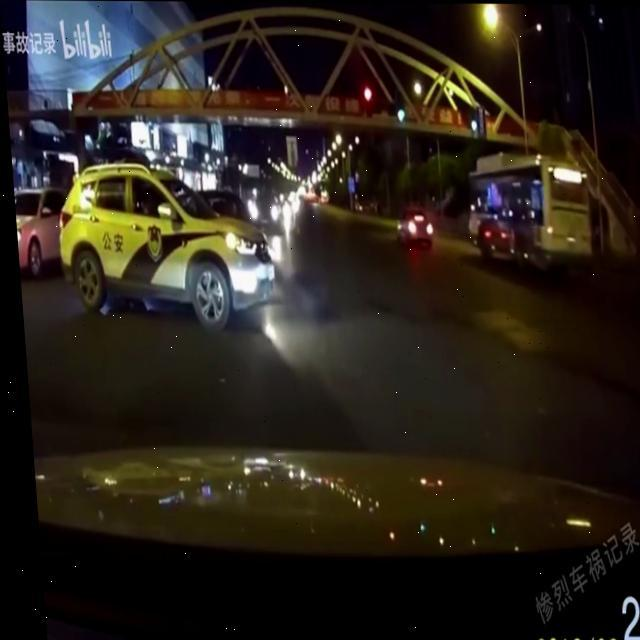multiple_accident: (40, 158, 304, 330)
